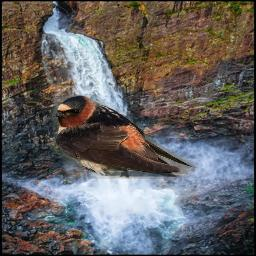Swallow: (52, 94, 195, 179)
